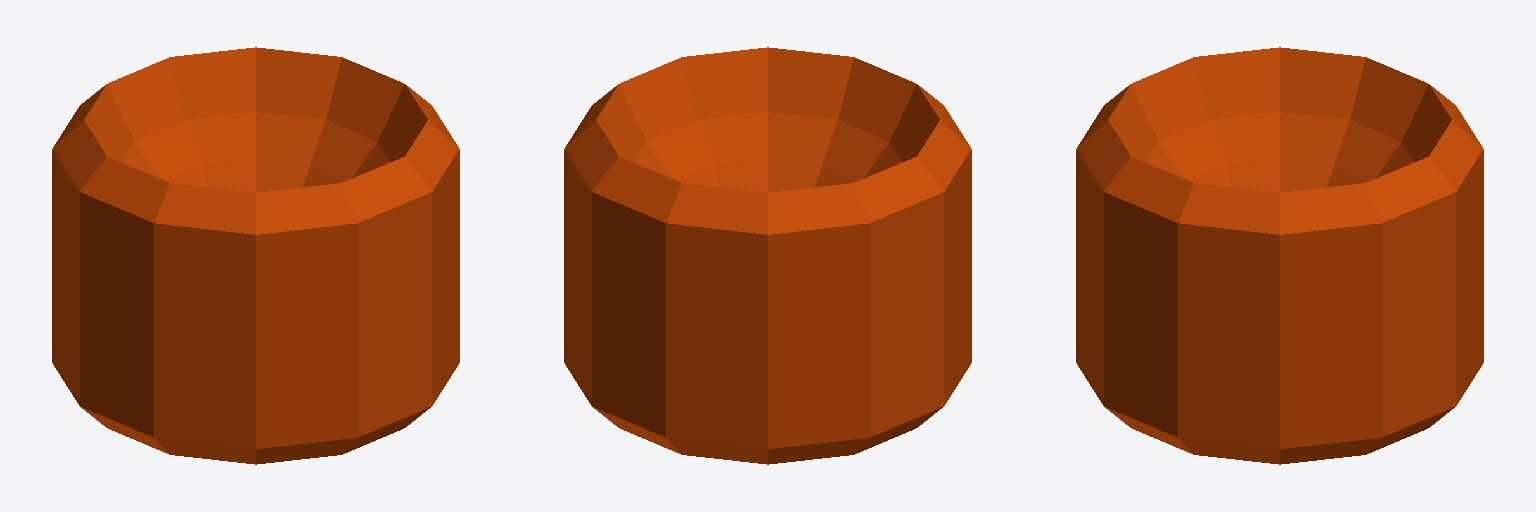
The model's file is Wheel6.OBJ.
3 views of the same model, side by side, from view 1: azimuth 30°, elevation 25°; view 2: azimuth 150°, elevation 25°; view 3: azimuth 270°, elevation 25° (orthographic).
Visible parts, largest first — view 1: Wheel6_Wheel1.003; view 2: Wheel6_Wheel1.003; view 3: Wheel6_Wheel1.003.
Boxes of the visible parts, x1,y1,x2,y2 form: Wheel6_Wheel1.003: [52, 47, 459, 464]; Wheel6_Wheel1.003: [564, 47, 971, 464]; Wheel6_Wheel1.003: [1076, 47, 1483, 464].
Size of the model in its own units: 0.5092 by 0.375 by 0.5092.